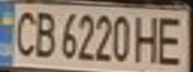0: (112, 11, 136, 63)
2: (93, 10, 115, 63), (75, 9, 96, 62)
6: (54, 8, 78, 61)
B: (30, 8, 60, 60)
C: (9, 7, 39, 60)
E: (154, 11, 190, 65)
H: (133, 12, 163, 64)
